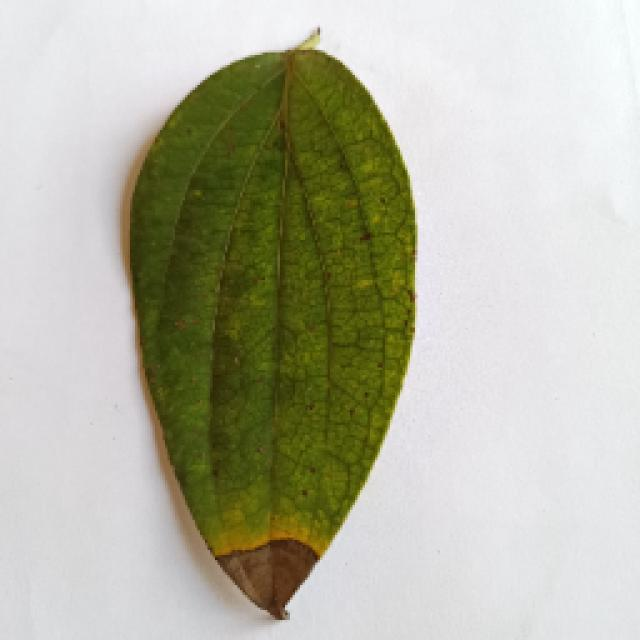footrot: (118, 38, 428, 622)
